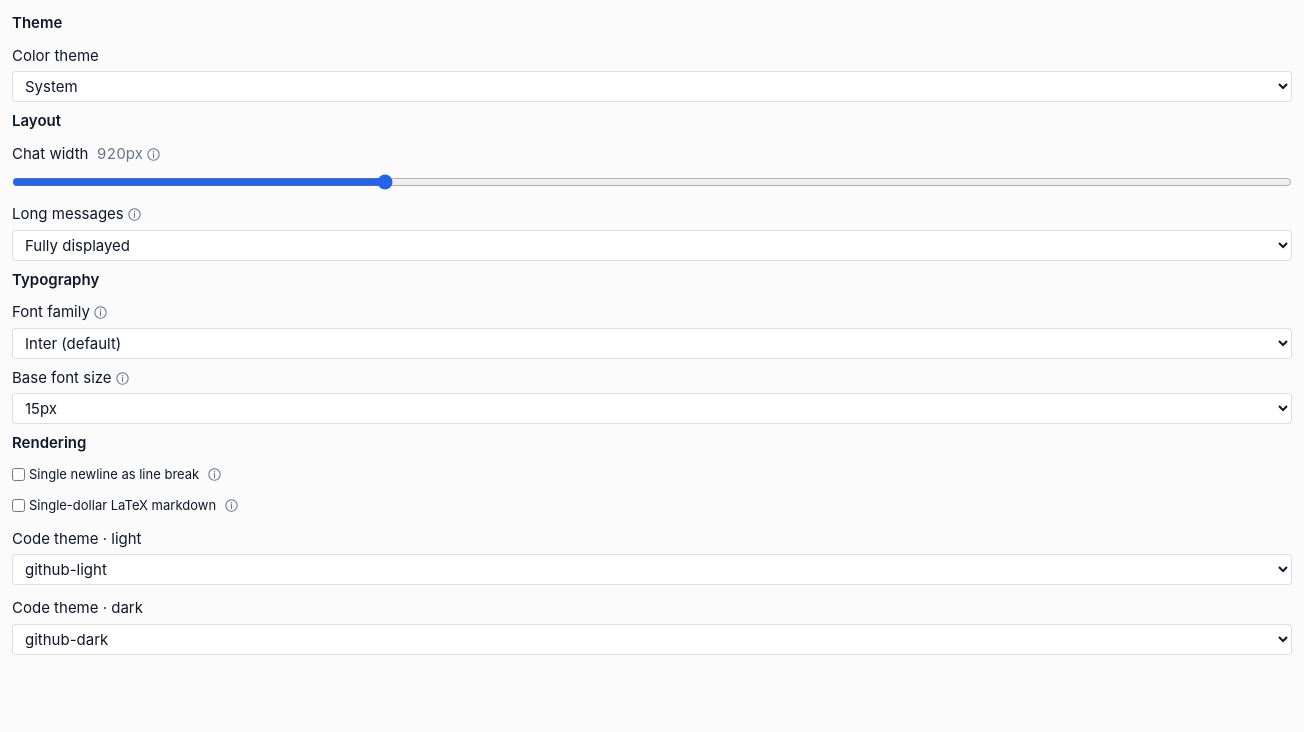
Test: AppearanceSettings › persists chat width immediately when the slider changes
Set the slider labelled "Chat width 920px" to "960" at (433, 182), box [12, 169, 1292, 195]
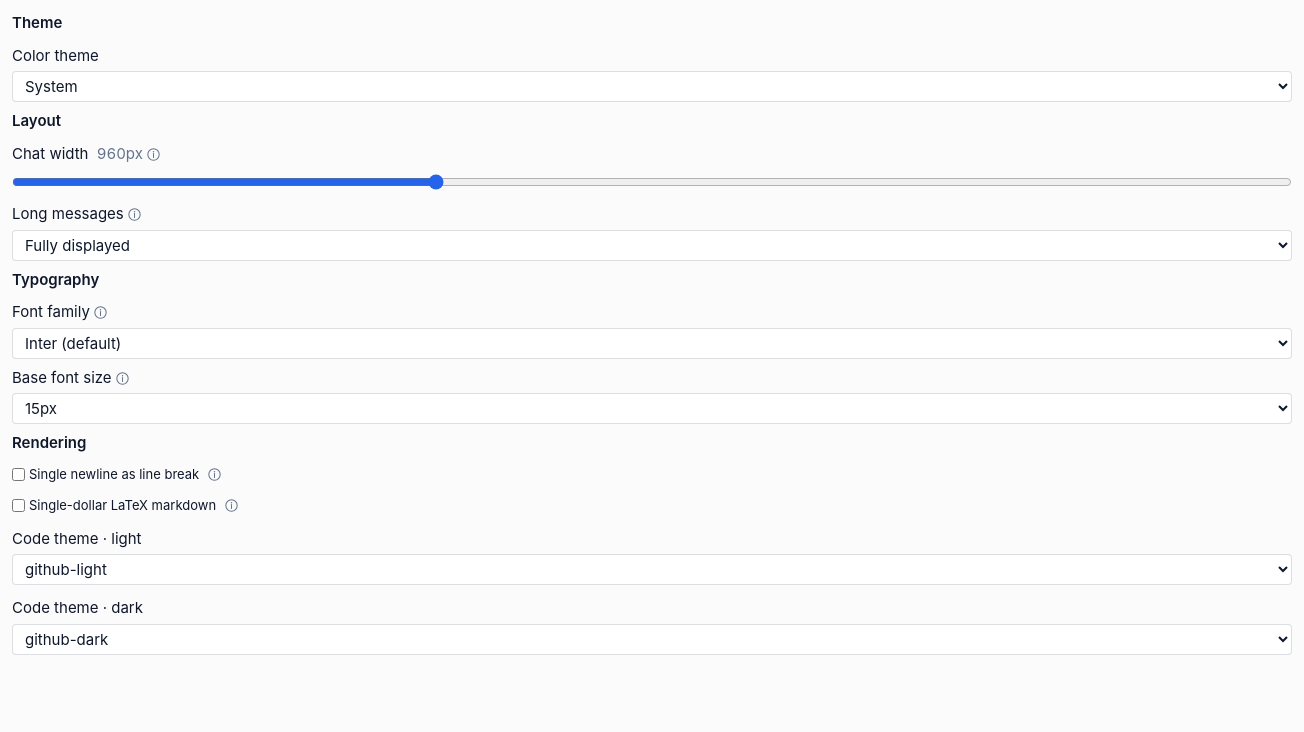
Expected: the text "960px" is shown, [97, 144, 143, 162]
